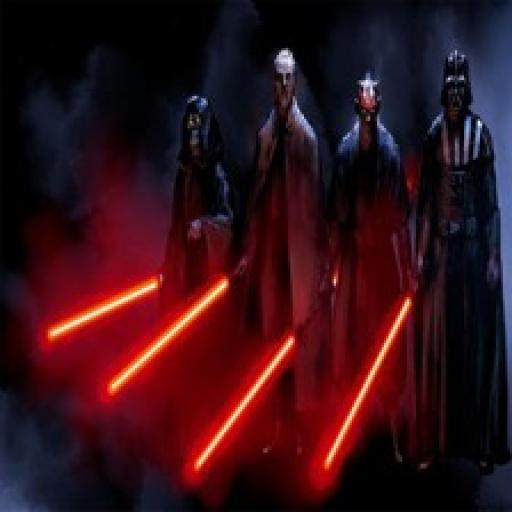human: (411, 50, 502, 468), (237, 48, 322, 451), (326, 74, 411, 460), (164, 90, 234, 400)
sith saber: (193, 283, 338, 473), (322, 270, 432, 474), (93, 262, 244, 400), (38, 264, 178, 354)
